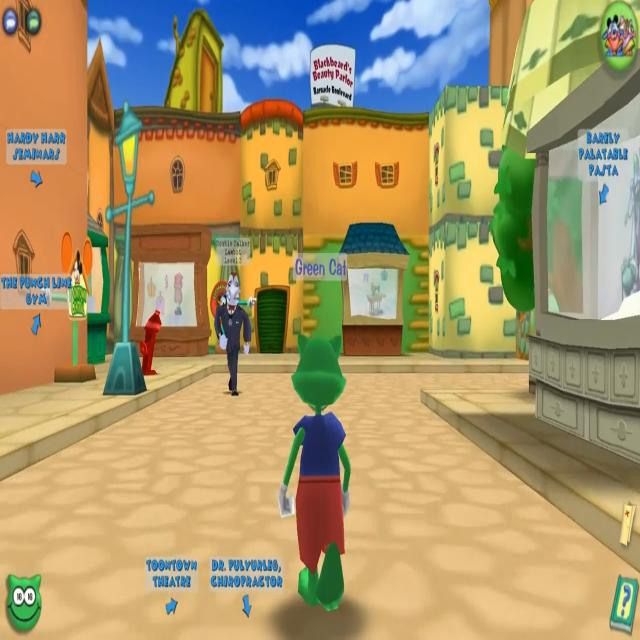doubletalker: (215, 244, 248, 397)
